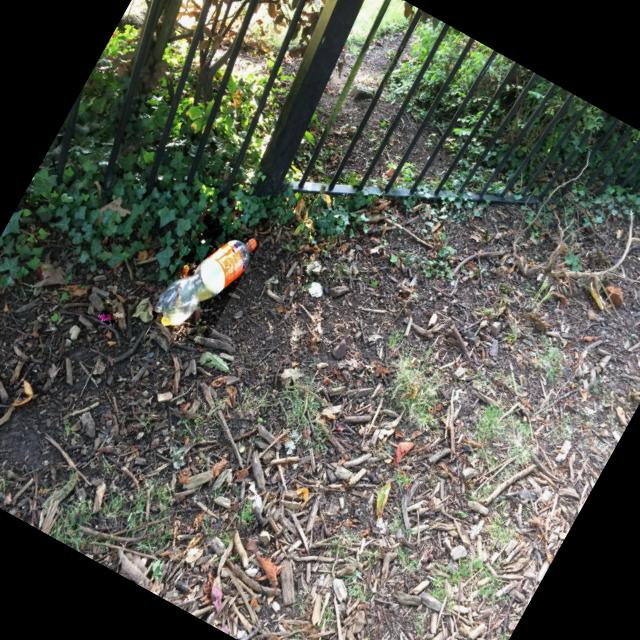Bottle cap: (248, 239, 256, 248)
Clear plastic bottle: (155, 239, 255, 326)
Other plastic: (98, 313, 111, 325)
